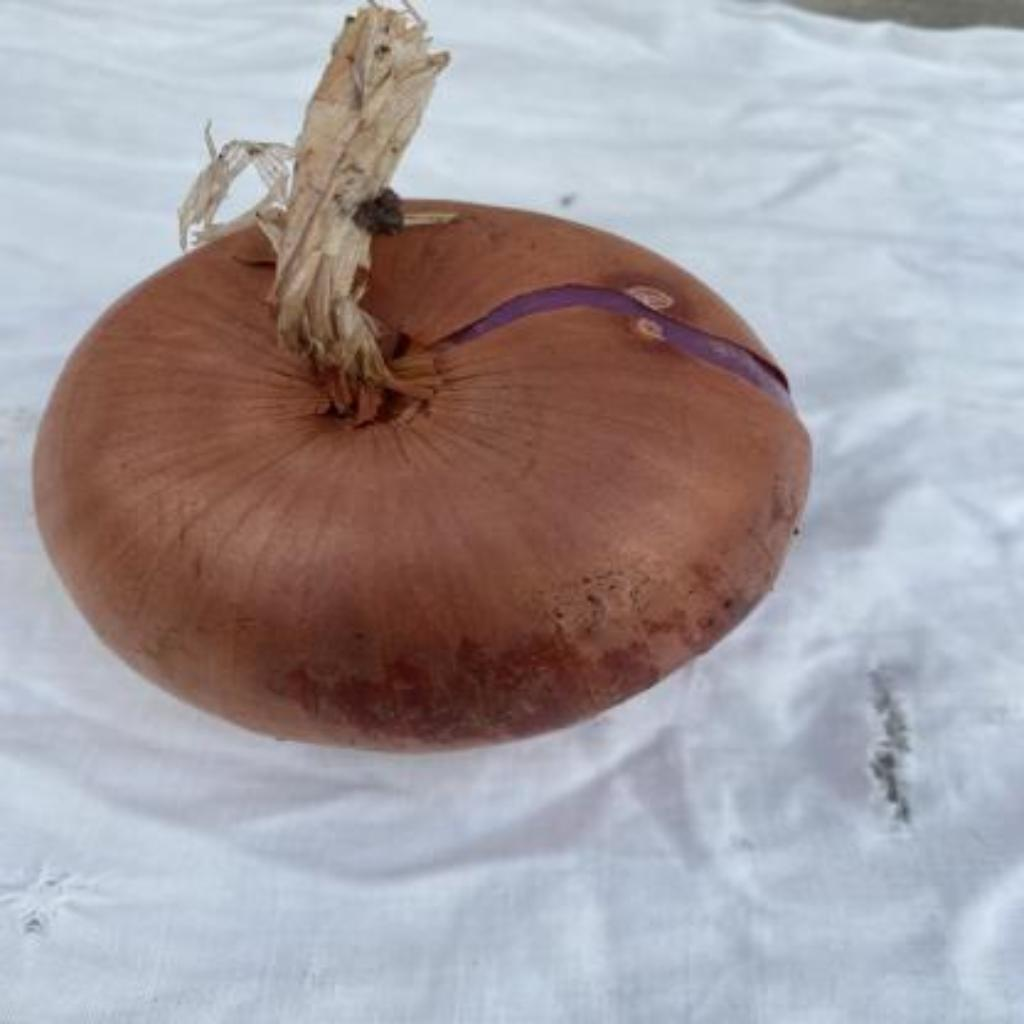Onion: (34, 2, 812, 750)
